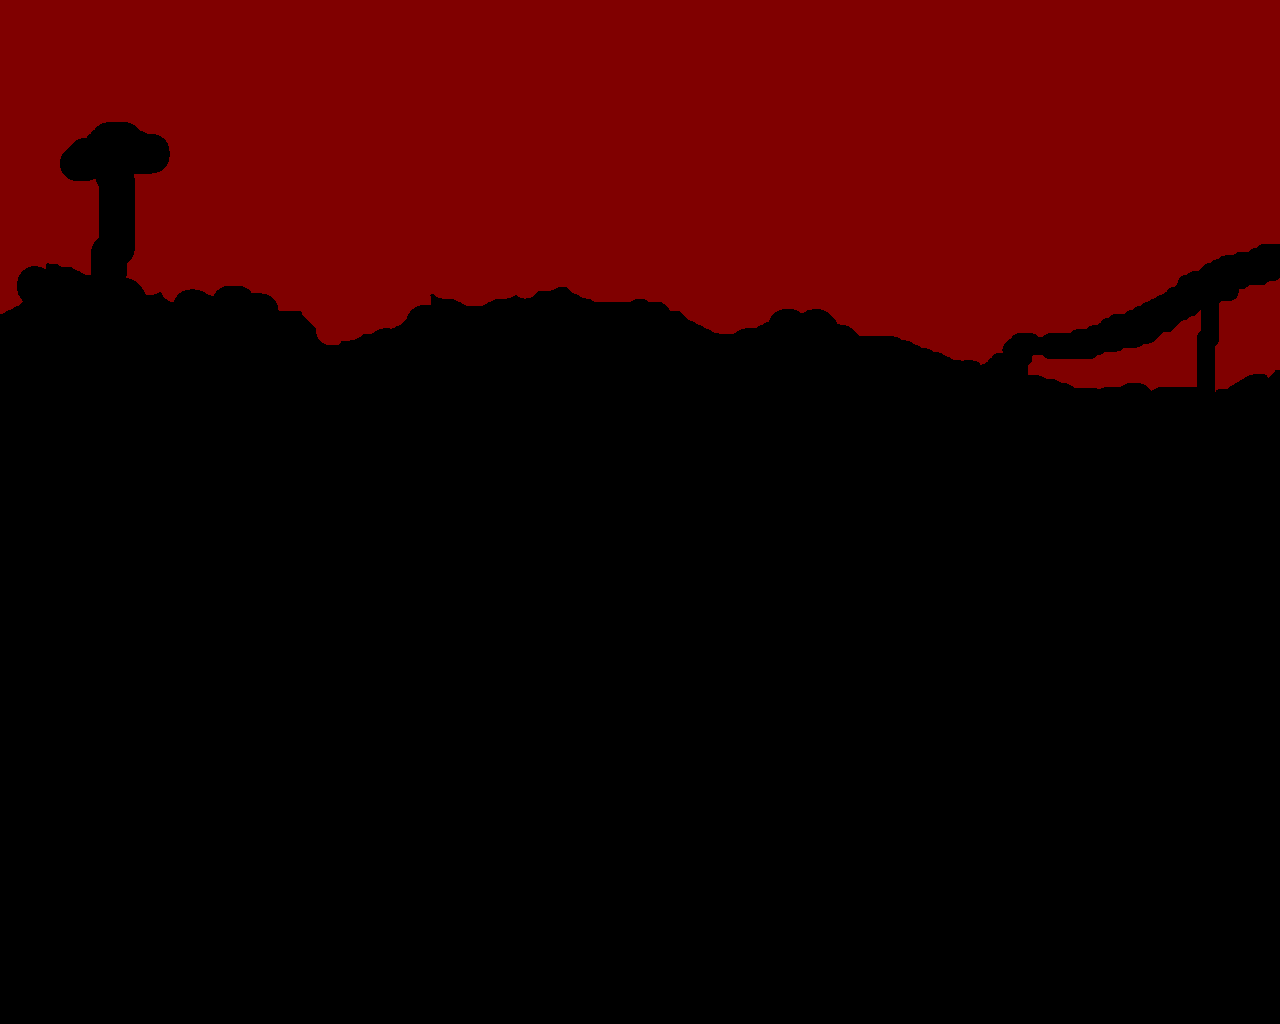Sky: (1, 1, 1279, 392)
